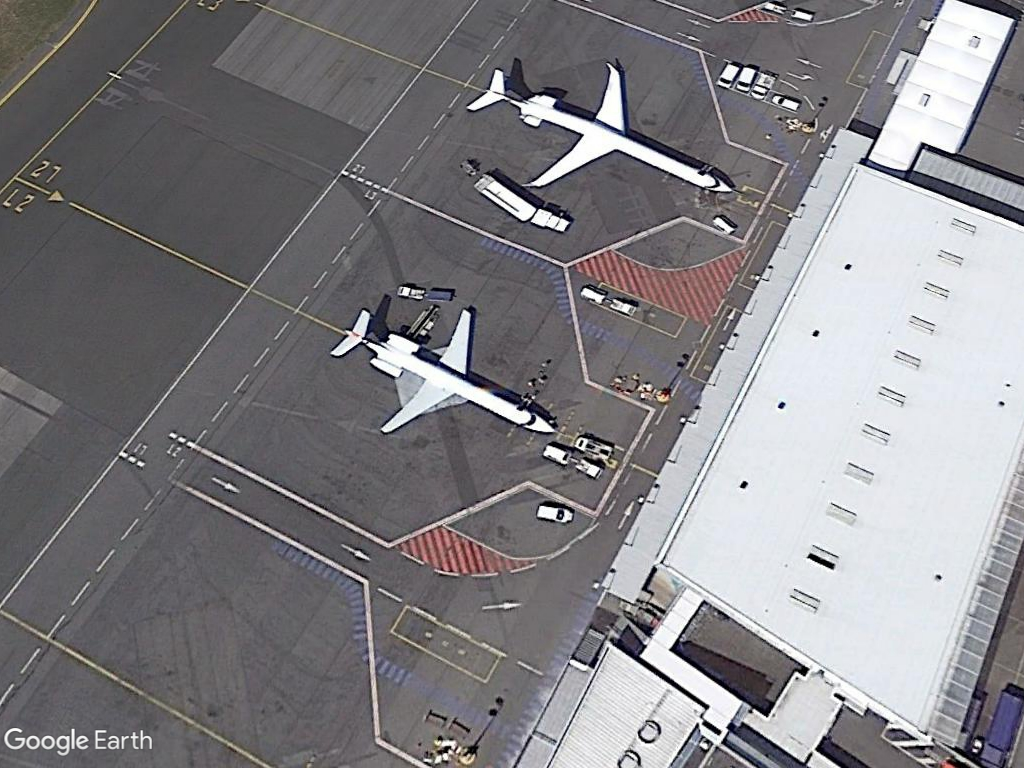chartered: (458, 56, 747, 196), (329, 302, 563, 442)
pushbacktruck: (572, 430, 618, 462), (605, 291, 642, 319)
